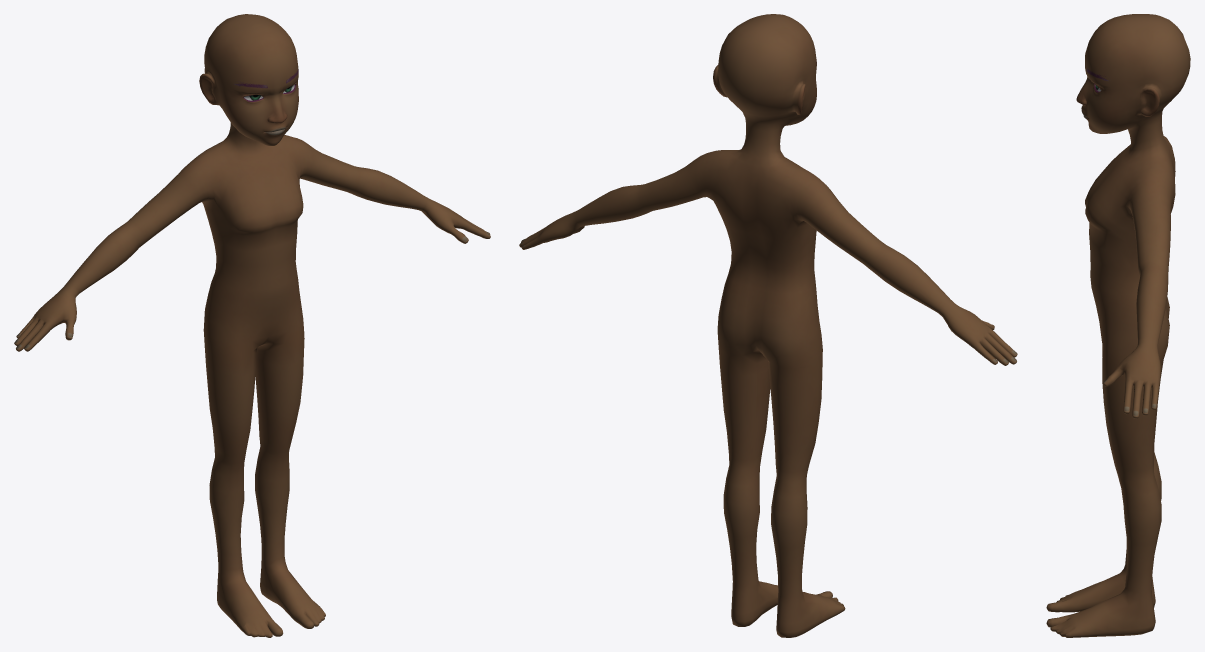
The model's file is frame_0009.glb.
The picture shows the model from 3 angles, left to right: view 1: azimuth 30°, elevation 25°; view 2: azimuth 150°, elevation 25°; view 3: azimuth 270°, elevation 25°; orthographic projection. The views are drawn at different scales.
Parts seen in each view (by area): view 1: frame_0009_head_geo; view 2: frame_0009_head_geo; view 3: frame_0009_head_geo.
Part boxes in pixels (<box>): frame_0009_head_geo: <box>14,14,490,637</box>; frame_0009_head_geo: <box>519,14,1017,637</box>; frame_0009_head_geo: <box>1046,14,1190,637</box>.
Size of the model in its own units: 1.28 by 1.5 by 0.3253.
3 materials, 3 textured.
